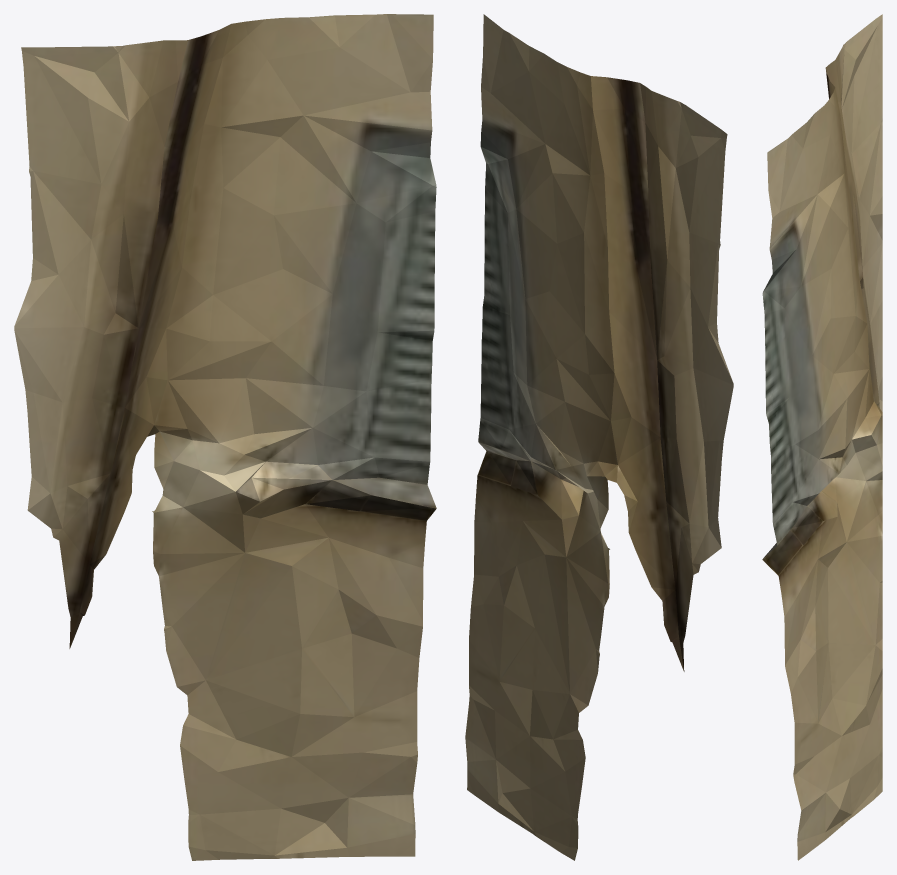
3 views of the same model, side by side, from view 1: azimuth 30°, elevation 25°; view 2: azimuth 150°, elevation 25°; view 3: azimuth 270°, elevation 25° (orthographic). The views are drawn at different scales.
Size of the model in its own units: 1.43 by 3.35 by 0.5164.
1 material, 1 textured.
